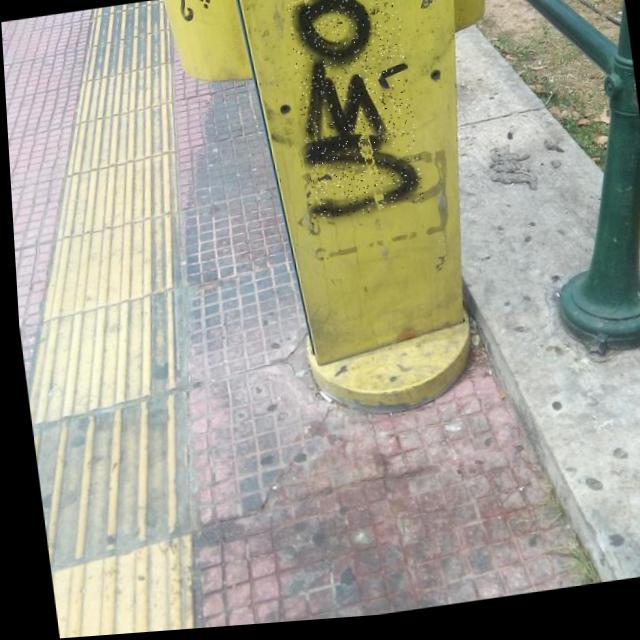-: (283, 0, 421, 226)
